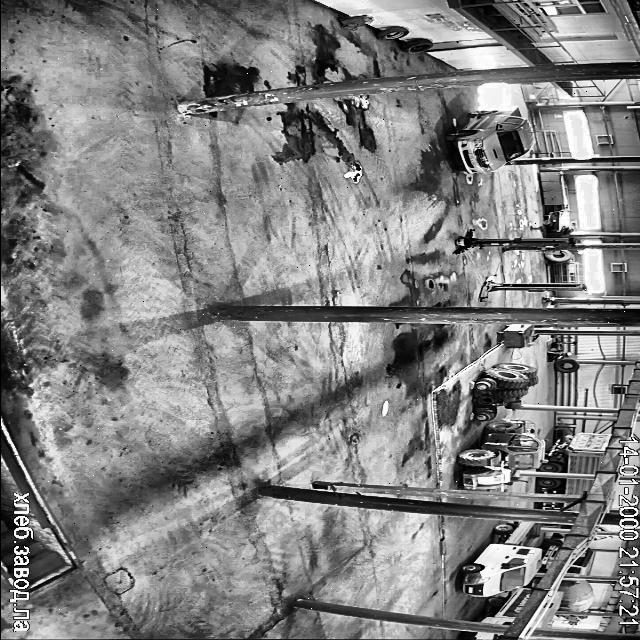class6: (458, 420, 544, 489), (474, 362, 538, 420)
class7: (460, 521, 540, 596), (445, 109, 534, 173), (540, 432, 612, 474), (480, 588, 532, 624), (557, 580, 594, 611), (538, 476, 591, 494), (537, 592, 562, 628), (541, 537, 563, 571), (567, 548, 595, 574), (541, 498, 580, 511), (461, 632, 500, 640), (564, 616, 580, 620)
tractor: (340, 16, 372, 28)
truck: (454, 229, 573, 253), (479, 276, 586, 300)
